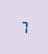seven: (19, 19, 26, 34)
